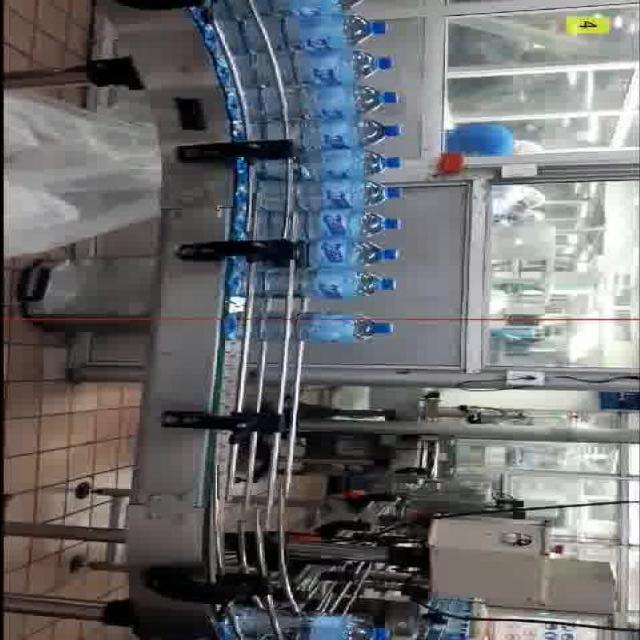bottle: (214, 10, 390, 52), (245, 112, 404, 158), (230, 46, 395, 86), (246, 146, 406, 187), (249, 310, 403, 350), (246, 81, 401, 118), (254, 175, 398, 214), (257, 266, 398, 300), (226, 612, 393, 640), (294, 207, 403, 240), (299, 237, 400, 270)
